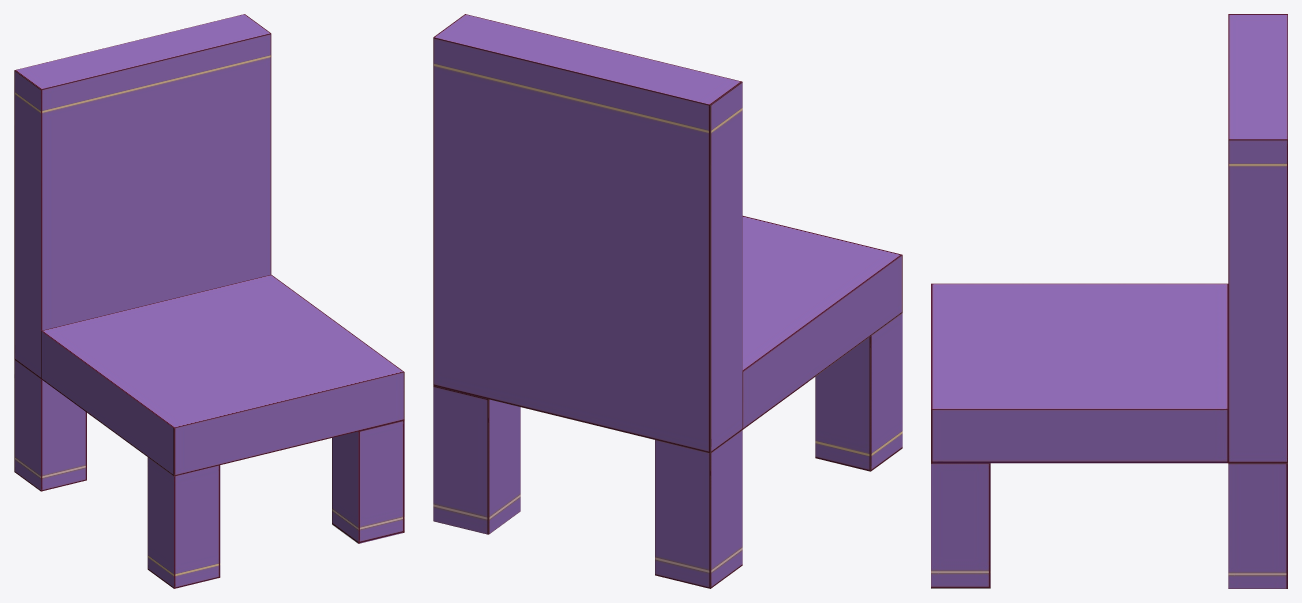
File: Nut_Chair.fbx
3 renders of one model, left to right at view 1: azimuth 30°, elevation 25°; view 2: azimuth 150°, elevation 25°; view 3: azimuth 270°, elevation 25°, orthographic. The views are drawn at different scales.
Visible parts, largest first — view 1: Box002; view 2: Box002; view 3: Box002.
Boxes of the visible parts, bbox=[...] form: Box002: bbox=[14, 14, 404, 588]; Box002: bbox=[433, 14, 902, 588]; Box002: bbox=[931, 14, 1287, 588].
Bounding box in the file's own units: 30 × 50 × 36.
1 material, 1 textured.
